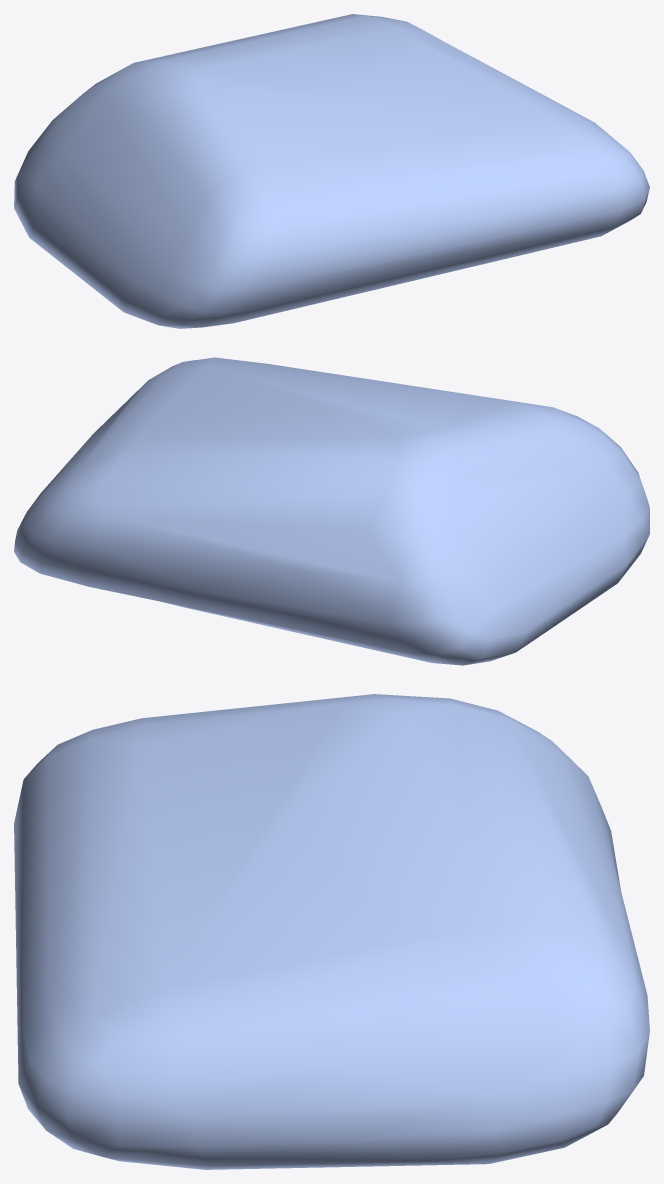
The model's file is Stone 1.fbx.
3 views of the same model, one above another, from view 1: azimuth 30°, elevation 25°; view 2: azimuth 150°, elevation 25°; view 3: azimuth 270°, elevation 25° (orthographic). The views are drawn at different scales.
Parts seen in each view (by area): view 1: Stone 1; view 2: Stone 1; view 3: Stone 1.
Part boxes in pixels (box(x1,y1,x2,y2)): Stone 1: box(14, 14, 649, 328); Stone 1: box(14, 357, 649, 665); Stone 1: box(14, 694, 649, 1169).
Bounding box in the file's own units: 169 × 55.09 × 131.
